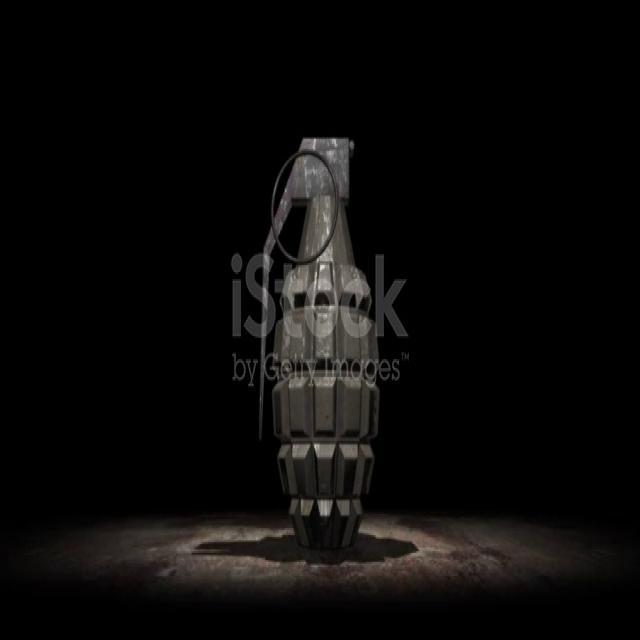grenade: (253, 130, 384, 564)
